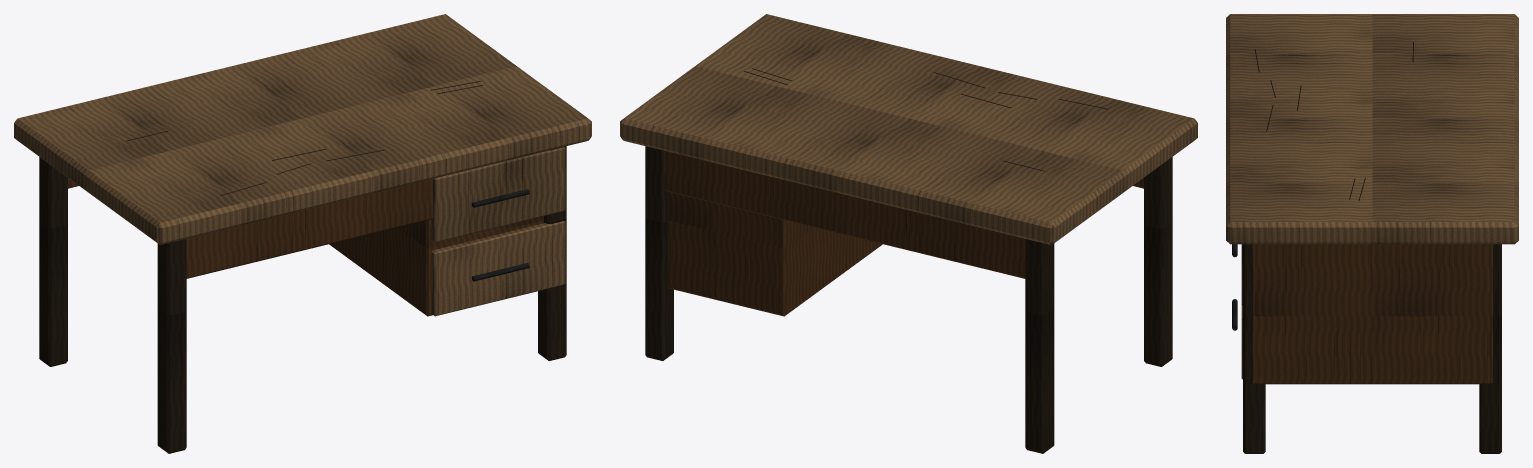
The model's file is desk.glb.
The picture shows the model from 3 angles, left to right: view 1: azimuth 30°, elevation 25°; view 2: azimuth 150°, elevation 25°; view 3: azimuth 270°, elevation 25°; orthographic projection.
Parts seen in each view (by area): view 1: PROP_desk; view 2: PROP_desk; view 3: PROP_desk.
Part boxes in pixels (left/top/right/bottom): PROP_desk: left=14, top=14, right=591, bottom=453; PROP_desk: left=620, top=14, right=1197, bottom=453; PROP_desk: left=1226, top=14, right=1518, bottom=453.
Bounding box in the file's own units: 1.42 × 0.7523 × 0.83.
Materials: 4 (4 with a texture image).
